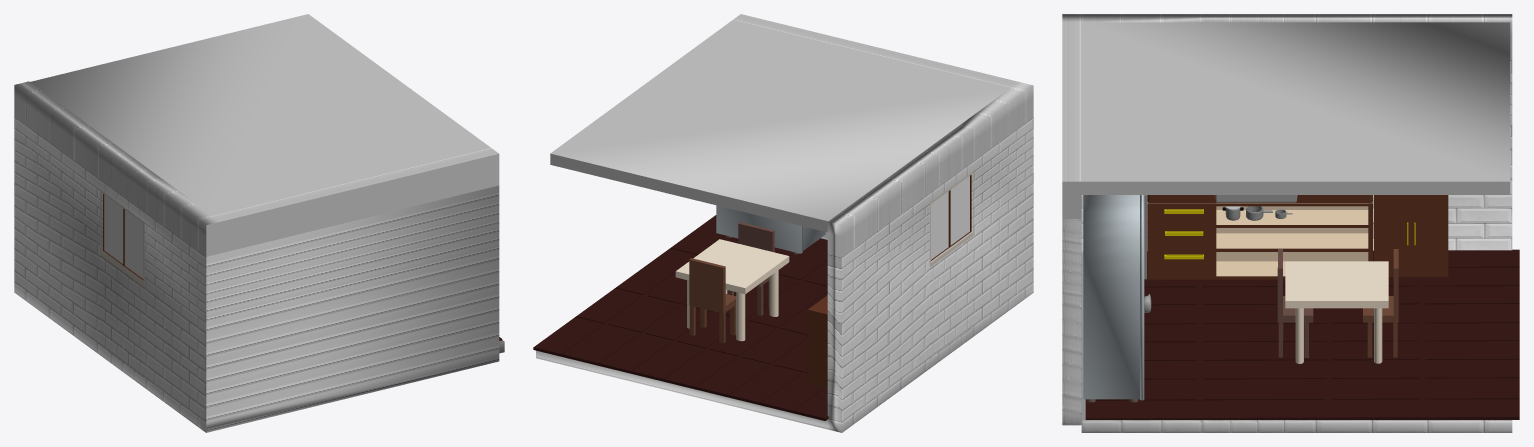
The picture shows the model from 3 angles, left to right: view 1: azimuth 30°, elevation 25°; view 2: azimuth 150°, elevation 25°; view 3: azimuth 270°, elevation 25°; orthographic projection. The views are drawn at different scales.
Parts seen in each view (by area): view 1: cuarto cocina, cuarto cocina.002, vidrio3, vidrio4, marco ventana.002; view 2: cuarto cocina, piso cocina, mesa, silla1, puerta nevera, cajon, silla2, vidrio3, vidrio4; view 3: cuarto cocina, piso cocina, nevera, cajones.004, mesa, cajon, cajones.001, cuarto cocina.002, cajones.003, meson, silla1, silla2 (+3 smaller).
Part boxes in pixels (x1,y1,x2,y2): cuarto cocina: [14, 14, 504, 432]; cuarto cocina.002: [206, 185, 499, 432]; vidrio3: [125, 210, 144, 279]; vidrio4: [104, 195, 123, 263]; marco ventana.002: [100, 190, 144, 285]; cuarto cocina: [536, 14, 1033, 432]; piso cocina: [533, 215, 828, 420]; mesa: [675, 239, 789, 341]; silla1: [689, 258, 736, 343]; puerta nevera: [716, 205, 802, 253]; cajon: [807, 295, 827, 389]; silla2: [727, 222, 774, 315]; vidrio3: [948, 176, 969, 245]; vidrio4: [929, 192, 948, 260]; cuarto cocina: [1062, 14, 1512, 432]; piso cocina: [1085, 249, 1519, 419]; nevera: [1083, 195, 1139, 399]; cajones.004: [1147, 202, 1372, 276]; mesa: [1285, 261, 1388, 363]; cajon: [1374, 195, 1448, 276]; cajones.001: [1147, 203, 1216, 279]; cuarto cocina.002: [1062, 219, 1081, 425]; cajones.003: [1216, 203, 1372, 279]; meson: [1147, 195, 1372, 202]; silla1: [1363, 249, 1398, 357]; silla2: [1277, 249, 1313, 357].
Bounding box in the file's own units: 12.56 × 8.11 × 13.79.
86 materials, 2 textured.
